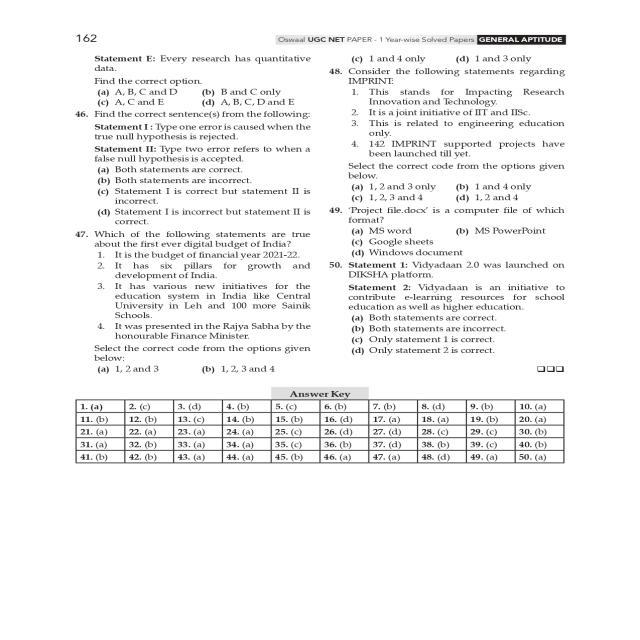Answer_Block: (72, 166, 322, 228), (327, 312, 582, 359), (327, 224, 582, 259), (327, 177, 582, 206), (74, 84, 322, 108), (333, 49, 582, 67), (72, 362, 318, 376)
Description: (68, 388, 578, 472)
Question_Answer_Block: (72, 227, 322, 377), (327, 65, 582, 206), (72, 106, 322, 226), (327, 258, 582, 358), (74, 50, 322, 106), (327, 205, 582, 258)
Question_Block: (72, 227, 322, 364), (327, 65, 582, 182), (72, 108, 322, 164), (327, 258, 582, 312), (74, 51, 322, 88), (327, 204, 582, 224)
Question_Paper_Area: (61, 48, 596, 490)
